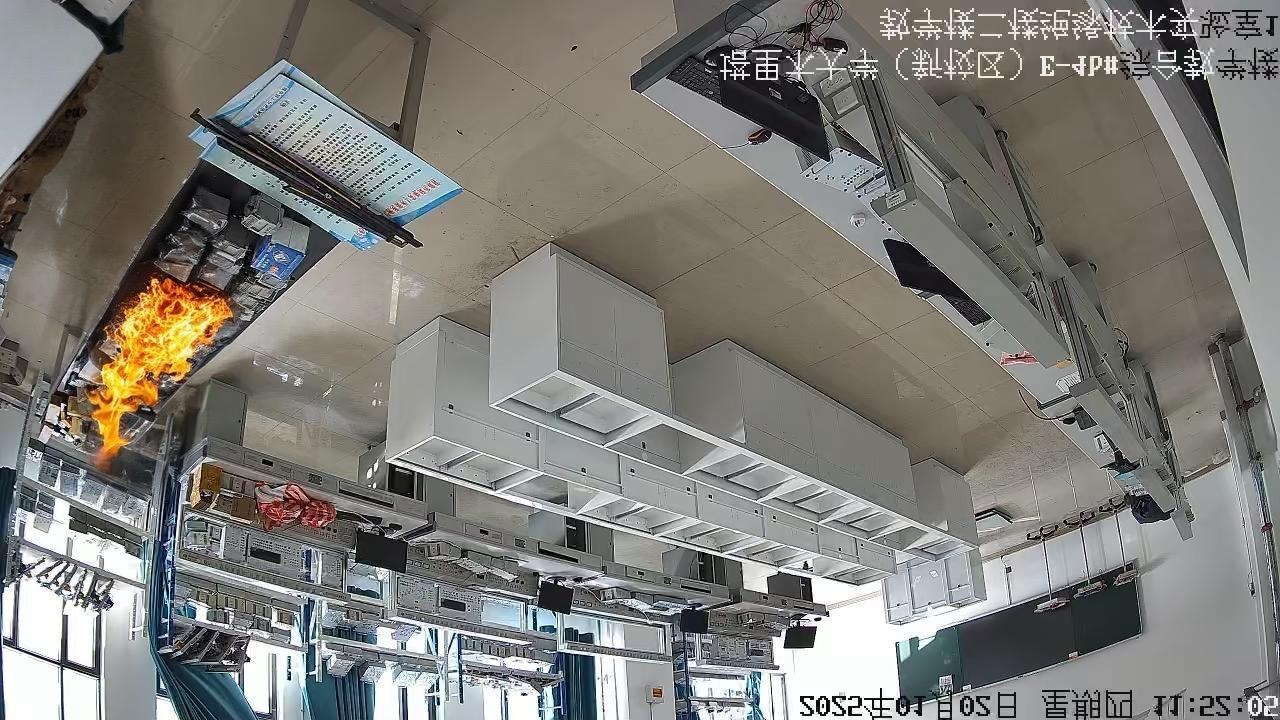fire: (62, 271, 245, 447)
